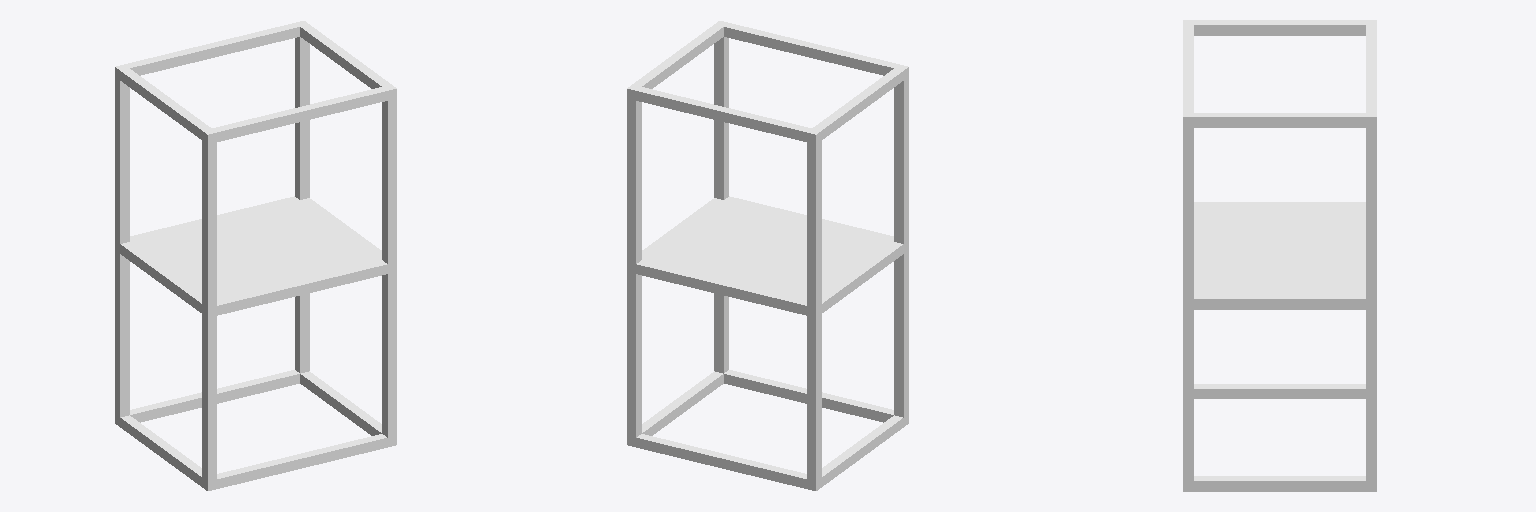
The robot description file, URDF, robot "GUIZI1_urdf":
<?xml version="1.0" encoding="utf-8"?>

<robot
  name="GUIZI1_urdf">
  <link
    name="base_link">
    <inertial>
      <origin
        xyz="-5.8287E-16 2.2204E-16 0.54"
        rpy="0 0 0" />
      <mass
        value="16.524" />
      <inertia
        ixx="1.9176"
        ixy="5.5609E-16"
        ixz="1.2201E-15"
        iyy="2.1228"
        iyz="7.2779E-16"
        izz="1.3181" />
    </inertial>
    <visual>
      <origin
        xyz="0 0 0"
        rpy="0 0 0" />
      <geometry>
        <mesh
          filename="package://GUIZI1_urdf/meshes/base_link.STL" />
      </geometry>
      <material
        name="">
        <color
          rgba="1 1 1 1" />
      </material>
    </visual>
    <collision>
      <origin
        xyz="0 0 0"
        rpy="0 0 0" />
      <geometry>
        <mesh
          filename="package://GUIZI1_urdf/meshes/base_link.STL" />
      </geometry>
    </collision>
  </link>

    <gazebo reference="base_link">
        <material>Gazebo/urGrey</material>
    </gazebo>

</robot>

--- What the picture shows (computed from the rendered views, not written in the file) ---
The picture shows the robot from 3 angles, left to right: view 1: azimuth 30°, elevation 25°; view 2: azimuth 150°, elevation 25°; view 3: azimuth 270°, elevation 25°; orthographic projection.
Model GUIZI1_urdf with 1 links and 0 joints (none), rooted at base_link, posed every joint at zero.
Visible links, largest first — view 1: base_link; view 2: base_link; view 3: base_link.
Boxes of the visible links, <box> form: base_link: <box>115,21,396,490</box>; base_link: <box>627,21,908,490</box>; base_link: <box>1183,20,1376,491</box>.
Size in the robot's own frame: 0.6 by 0.51 by 1.08 metres.
1 mesh visuals loaded from 1 distinct referenced files (1 binary STL).